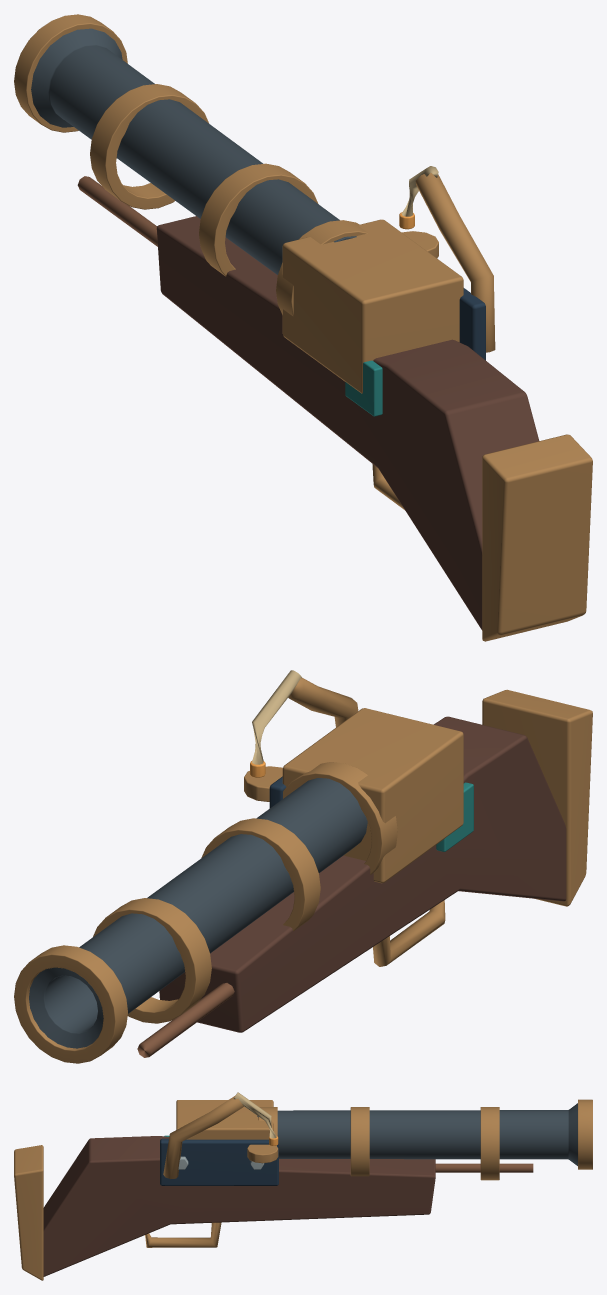
The model's file is matchlock.glb.
3 views of the same model, one above another, from view 1: azimuth 30°, elevation 25°; view 2: azimuth 150°, elevation 25°; view 3: azimuth 270°, elevation 25° (orthographic). The views are drawn at different scales.
Visible parts, largest first — view 1: matchlock__walnut_stock, matchlock__long_barrel, matchlock__breech, matchlock__butt_cap, matchlock__barrel_band_0, matchlock__serpentine_match_arm, matchlock__barrel_band_1, matchlock__muzzle_lip, matchlock__barrel_band_2, matchlock__underbarrel_rod, matchlock__side_plate, matchlock__power_seal; view 2: matchlock__walnut_stock, matchlock__long_barrel, matchlock__breech, matchlock__butt_cap, matchlock__muzzle_lip, matchlock__barrel_band_0, matchlock__barrel_band_1, matchlock__barrel_band_2, matchlock__underbarrel_rod, matchlock__guard, matchlock__serpentine_match_arm, matchlock__match_cord (+2 smaller); view 3: matchlock__walnut_stock, matchlock__long_barrel, matchlock__side_plate, matchlock__butt_cap, matchlock__breech, matchlock__serpentine_match_arm, matchlock__barrel_band_0, matchlock__barrel_band_1, matchlock__muzzle_lip, matchlock__guard, matchlock__underbarrel_rod, matchlock__pan (+1 smaller).
Part boxes in pixels (x1=…): matchlock__walnut_stock: x1=156, y1=216, x2=539, y2=630; matchlock__long_barrel: x1=31, y1=28, x2=356, y2=274; matchlock__breech: x1=282, y1=219, x2=463, y2=393; matchlock__butt_cap: x1=482, y1=434, x2=592, y2=641; matchlock__barrel_band_0: x1=90, y1=84, x2=208, y2=209; matchlock__serpentine_match_arm: x1=415, y1=173, x2=495, y2=352; matchlock__barrel_band_1: x1=199, y1=163, x2=318, y2=276; matchlock__muzzle_lip: x1=14, y1=14, x2=127, y2=132; matchlock__barrel_band_2: x1=276, y1=220, x2=367, y2=316; matchlock__underbarrel_rod: x1=77, y1=176, x2=157, y2=246; matchlock__side_plate: x1=459, y1=288, x2=485, y2=360; matchlock__power_seal: x1=345, y1=360, x2=382, y2=416; matchlock__walnut_stock: x1=159, y1=716, x2=566, y2=1032; matchlock__long_barrel: x1=29, y1=778, x2=367, y2=1048; matchlock__breech: x1=282, y1=708, x2=463, y2=883; matchlock__butt_cap: x1=482, y1=689, x2=592, y2=906; matchlock__muzzle_lip: x1=14, y1=945, x2=127, y2=1063; matchlock__barrel_band_0: x1=93, y1=898, x2=211, y2=1023; matchlock__barrel_band_1: x1=201, y1=818, x2=320, y2=931; matchlock__barrel_band_2: x1=283, y1=762, x2=397, y2=874; matchlock__underbarrel_rod: x1=137, y1=983, x2=234, y2=1057; matchlock__guard: x1=373, y1=900, x2=445, y2=966; matchlock__serpentine_match_arm: x1=288, y1=677, x2=358, y2=727; matchlock__match_cord: x1=252, y1=670, x2=301, y2=764; matchlock__walnut_stock: x1=43, y1=1136, x2=435, y2=1276; matchlock__long_barrel: x1=257, y1=1103, x2=577, y2=1165; matchlock__side_plate: x1=160, y1=1138, x2=278, y2=1185; matchlock__butt_cap: x1=14, y1=1145, x2=43, y2=1280; matchlock__breech: x1=176, y1=1100, x2=273, y2=1139; matchlock__serpentine_match_arm: x1=163, y1=1095, x2=243, y2=1178; matchlock__barrel_band_0: x1=480, y1=1107, x2=499, y2=1180; matchlock__barrel_band_1: x1=350, y1=1107, x2=369, y2=1176; matchlock__muzzle_lip: x1=578, y1=1099, x2=592, y2=1169; matchlock__guard: x1=145, y1=1222, x2=221, y2=1247; matchlock__underbarrel_rod: x1=435, y1=1163, x2=533, y2=1172; matchlock__pan: x1=247, y1=1144, x2=278, y2=1163.
Bounding box in the file's own units: 0.188 × 0.4001 × 1.07.
